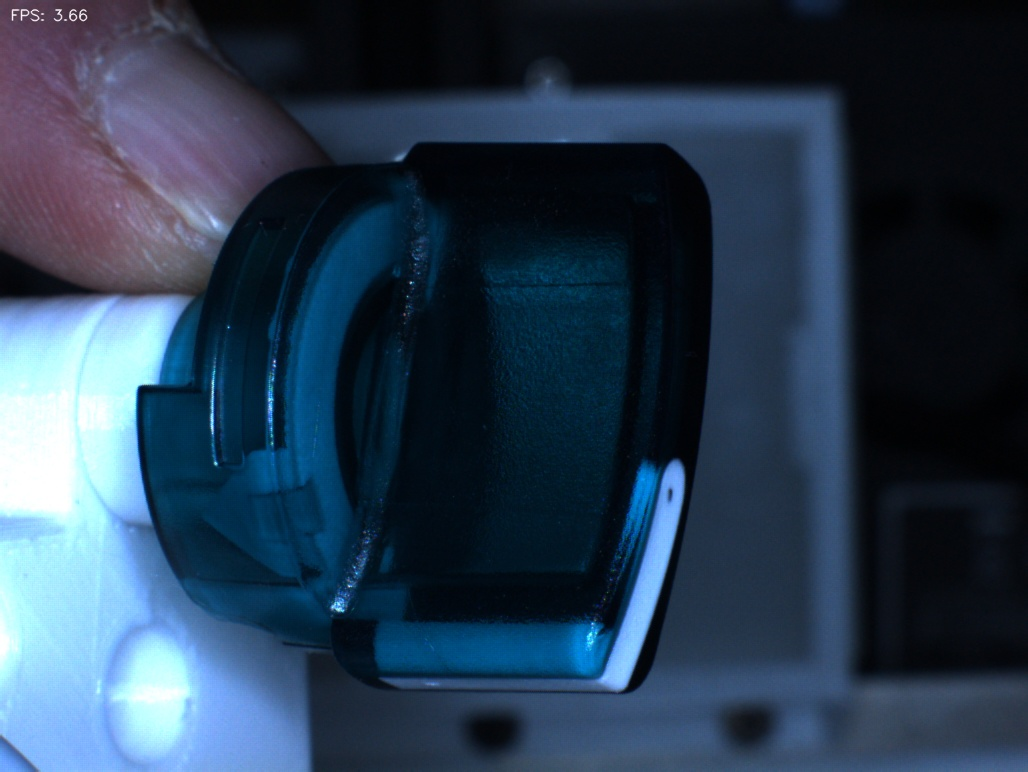PointNoir: (620, 435, 714, 534)
